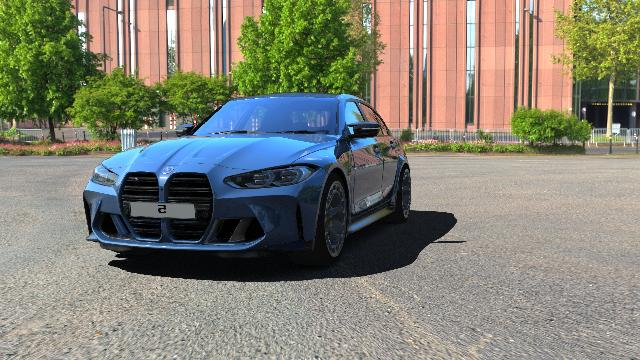License Plate: (130, 202, 192, 218)
